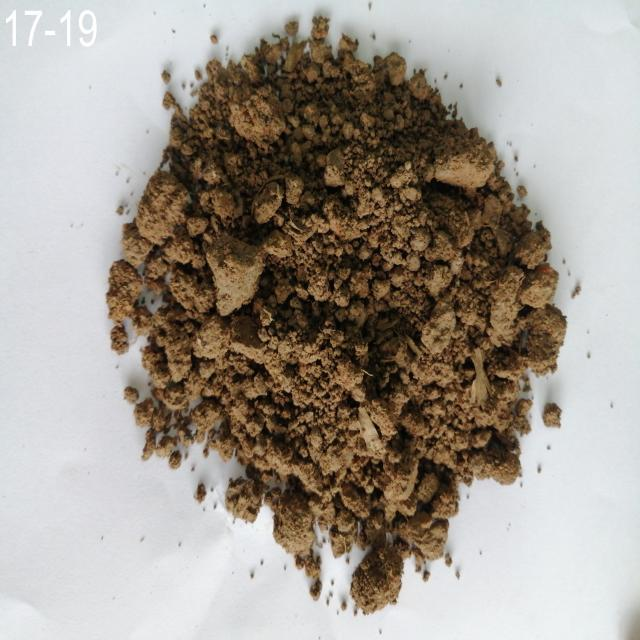soil: (215, 106, 474, 474)
